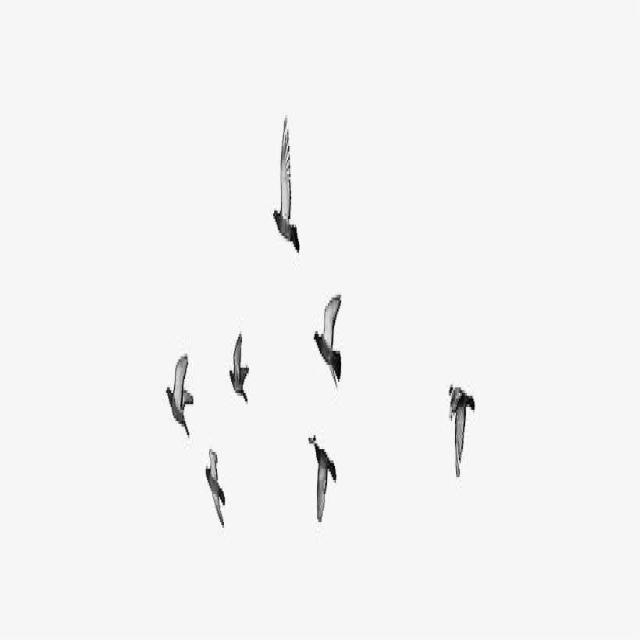bird: (268, 106, 302, 257), (312, 285, 345, 393), (446, 361, 475, 482), (163, 338, 196, 444), (305, 432, 340, 527), (202, 436, 227, 536), (226, 320, 252, 411)
